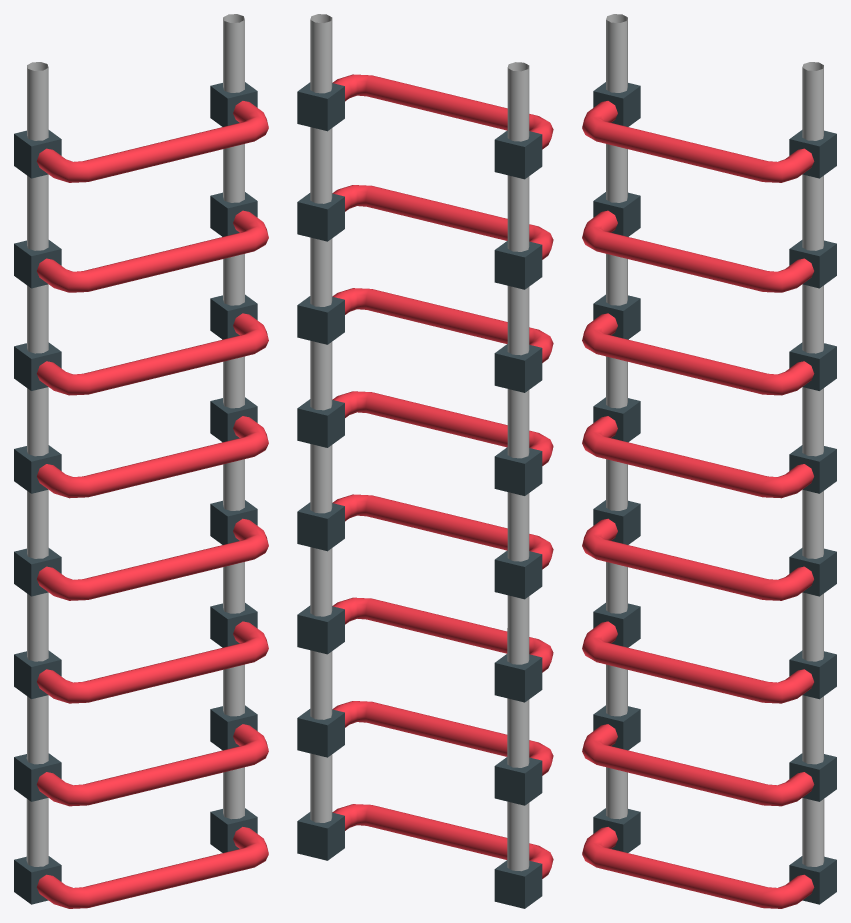
The model's file is Ladder_001.fbx.
The picture shows the model from 3 angles, left to right: view 1: azimuth 30°, elevation 25°; view 2: azimuth 150°, elevation 25°; view 3: azimuth 330°, elevation 25°; orthographic projection.
Parts seen in each view (by area): view 1: Ladder_001; view 2: Ladder_001; view 3: Ladder_001.
Part boxes in pixels (x1=…): Ladder_001: x1=14, y1=14, x2=268, y2=908; Ladder_001: x1=297, y1=14, x2=553, y2=908; Ladder_001: x1=582, y1=14, x2=836, y2=908.
Size of the model in its own units: 115 by 40.42 by 403.
